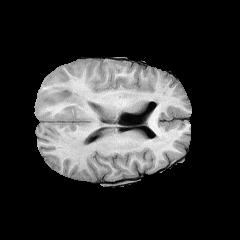glioma: (40, 73, 95, 161)
